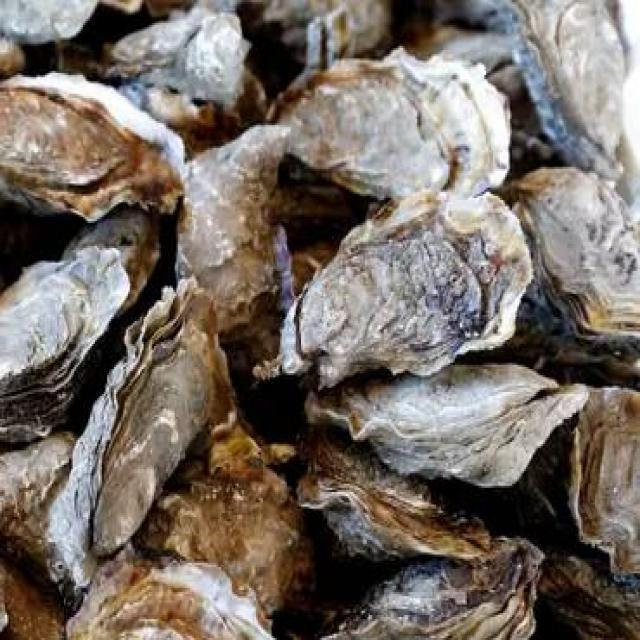Oyster- Indeterminate: (272, 182, 547, 397), (125, 406, 368, 639), (320, 348, 593, 500), (274, 57, 512, 203), (0, 76, 185, 218), (177, 124, 293, 307), (64, 554, 275, 640), (567, 387, 640, 550), (0, 0, 104, 51)
Oyster-Closed: (18, 271, 276, 581), (260, 410, 510, 626), (0, 214, 146, 453), (506, 0, 626, 195), (329, 541, 543, 640), (536, 550, 640, 640), (164, 10, 253, 101), (101, 6, 214, 76)
Oyster-Open: (414, 28, 524, 100), (303, 18, 342, 74)
